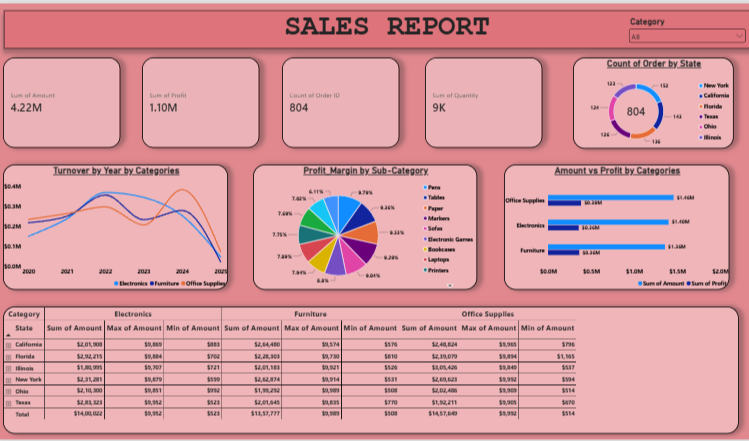

Layout of this report page (visuals, bound fields, positions):
{"tool":"powerbi","page":{"name":"DASHBOARD","canvas":[1920,1101],"ordinal":0},"visuals":[{"type":"textbox","box":[17,17,1885.1,95.7],"z":0},{"type":"cardVisual","fields":{"Data":["Sum(Clean data.Amount)"]},"box":[16.1,135.5,295.7,227.7],"z":1000},{"type":"cardVisual","fields":{"Data":["CountNonNull(Clean data.Order ID)"]},"box":[719.4,135.5,295.7,227.7],"z":2000},{"type":"cardVisual","fields":{"Data":["Sum(Clean data.Profit)"]},"box":[364.5,135.5,295.7,227.7],"z":3000},{"type":"cardVisual","fields":{"Data":["Sum(Clean data.Quantity)"]},"box":[1077.4,135.5,295.7,227.7],"z":4000},{"type":"donutChart","title":"Count of Order by State","fields":{"Category":["Clean data.State"],"Y":["CountNonNull(Clean data.Order ID)"]},"box":[1451.6,135.5,404.9,229.6],"z":5000},{"type":"lineChart","title":"Turnover by Year by Categories","fields":{"Category":["Clean data.Order Date.Variation.Date Hierarchy.Year"],"Series":["Clean data.Category"],"Y":["Sum(Clean data.Amount)"]},"box":[16.1,406.5,567.3,316.3],"z":6000},{"type":"clusteredBarChart","title":"Amount vs Profit by Categories","fields":{"Category":["Clean data.Category"],"Y":["Sum(Clean data.Amount)","Sum(Clean data.Profit)"]},"box":[1276.9,406.4,567.7,316.1],"z":7000},{"type":"pieChart","title":" Profit_Margin by Sub-Category","fields":{"Category":["Clean data.Sub-Category"],"Y":["Sum(Clean data.Profit_Margin)"]},"box":[644.9,406.1,564.9,316.2],"z":8000},{"type":"pivotTable","fields":{"Columns":["Clean data.Category"],"Rows":["Clean data.State","Clean data.City"],"Values":["Sum(Clean data.Amount)","Max(Clean data.Amount)","Min(Clean data.Amount)"]},"box":[15.1,763.5,1853.8,320.5],"z":9000},{"type":"slicer","fields":{"Values":["Clean data.Category"]},"box":[1588.5,32.1,304.3,66],"z":9002}]}

Visuals, with their boxes in screenshot pixels (x1, y1, x2, y2), scaled from the page's 1920x1101 canvas onto the 749x441 screenshot:
textbox: [left=7, top=7, right=742, bottom=45]
cardVisual - Sum(Clean data.Amount): [left=6, top=54, right=122, bottom=145]
cardVisual - CountNonNull(Clean data.Order ID): [left=281, top=54, right=396, bottom=145]
cardVisual - Sum(Clean data.Profit): [left=142, top=54, right=258, bottom=145]
cardVisual - Sum(Clean data.Quantity): [left=420, top=54, right=536, bottom=145]
"Count of Order by State" donutChart: [left=566, top=54, right=724, bottom=146]
"Turnover by Year by Categories" lineChart: [left=6, top=163, right=228, bottom=290]
"Amount vs Profit by Categories" clusteredBarChart: [left=498, top=163, right=720, bottom=289]
" Profit_Margin by Sub-Category" pieChart: [left=252, top=163, right=472, bottom=289]
pivotTable - Clean data.Category x Clean data.State: [left=6, top=306, right=729, bottom=434]
slicer - Clean data.Category: [left=620, top=13, right=738, bottom=39]
